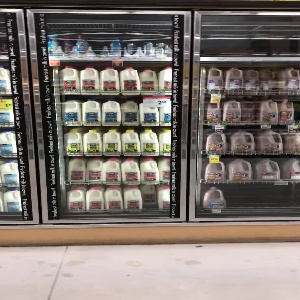void: (226, 183, 300, 215)
